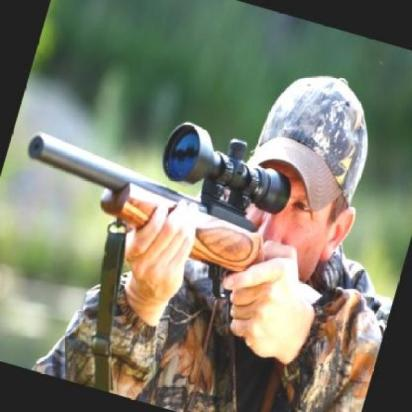Gun: (22, 122, 290, 282)
